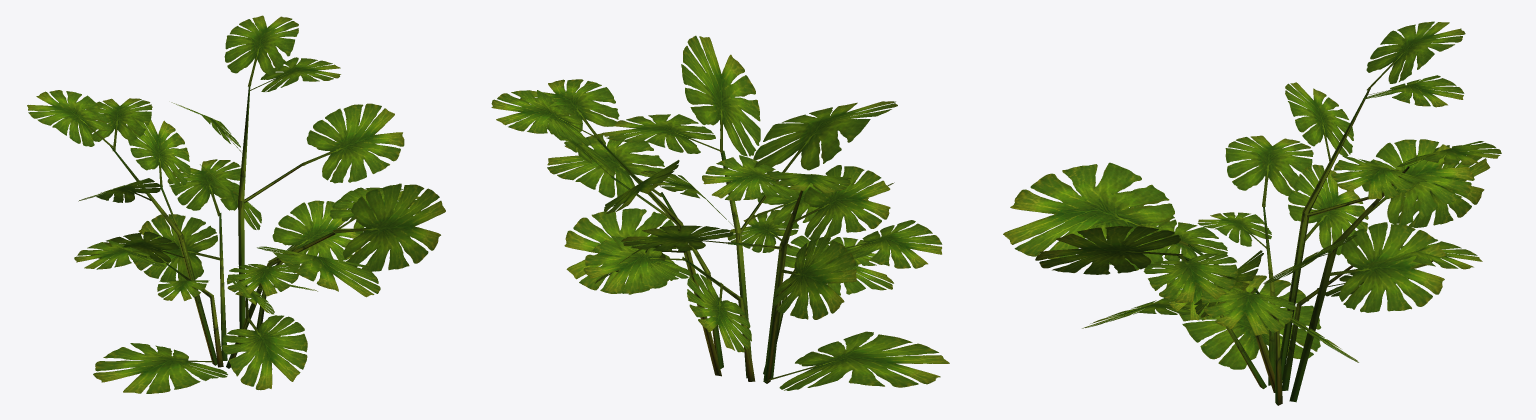
File: kuoyeguanmu_xn_42_02.FBX
The picture shows the model from 3 angles, left to right: view 1: azimuth 30°, elevation 25°; view 2: azimuth 150°, elevation 25°; view 3: azimuth 270°, elevation 25°; orthographic projection. The views are drawn at different scales.
Parts seen in each view (by area): view 1: kuoyeguanmu_xn_42_02; view 2: kuoyeguanmu_xn_42_02; view 3: kuoyeguanmu_xn_42_02.
Boxes of the visible parts, x1=… form: kuoyeguanmu_xn_42_02: x1=27, y1=15, x2=445, y2=393; kuoyeguanmu_xn_42_02: x1=491, y1=35, x2=949, y2=390; kuoyeguanmu_xn_42_02: x1=1003, y1=21, x2=1501, y2=405.
Size of the model in its own units: 372 by 267 by 411.
